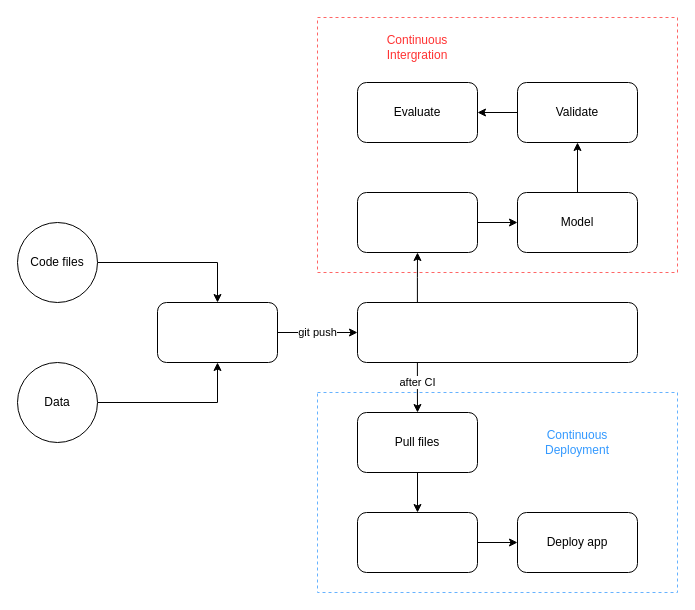
Some shapes in this 695 by 610 pixel diagram are drawn without their labels. The shapes that lost their labels are listed below. From the top down, each one's box as (x1, y1, x2, y2) in pixels, then its label:
(356, 192, 478, 252): Train
(156, 302, 278, 362): Local repository
(356, 302, 638, 362): GitHub Actions
(356, 512, 478, 572): Upload model
